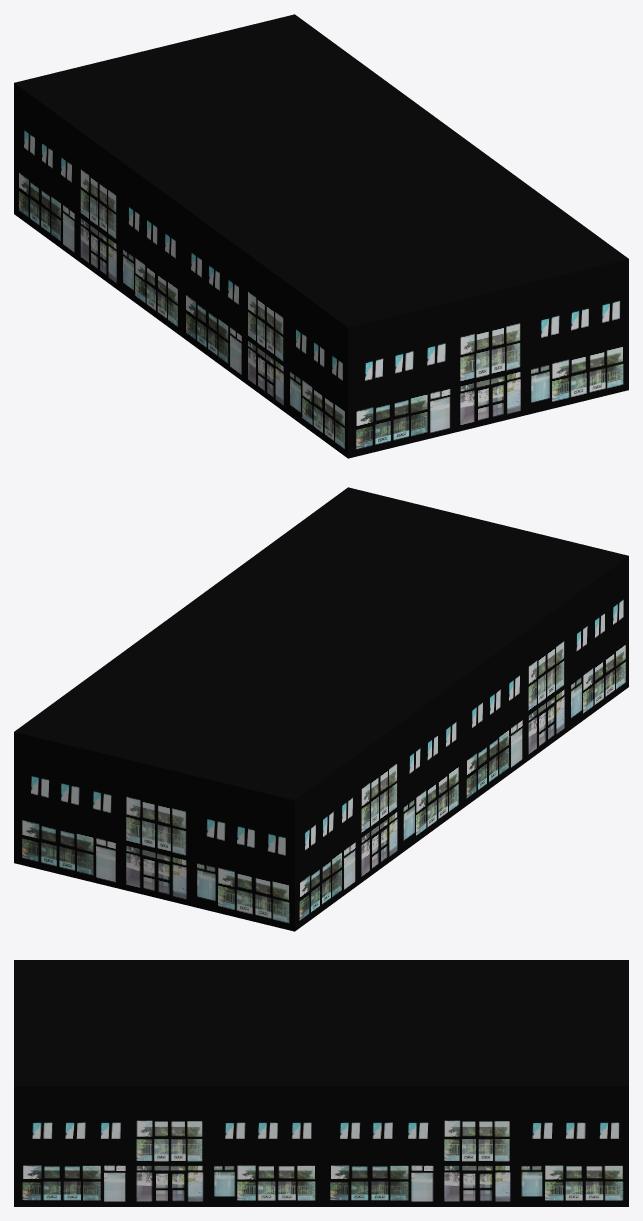
The model's file is building6.FBX.
The picture shows the model from 3 angles, top to bottom: view 1: azimuth 30°, elevation 25°; view 2: azimuth 150°, elevation 25°; view 3: azimuth 270°, elevation 25°; orthographic projection. The views are drawn at different scales.
Visible parts, largest first — view 1: Box001; view 2: Box001; view 3: Box001.
Part boxes in pixels (bbox=[...]): Box001: bbox=[14, 14, 628, 458]; Box001: bbox=[14, 487, 628, 931]; Box001: bbox=[14, 960, 628, 1206].
Size of the model in its own units: 55.93 by 24.98 by 115.
